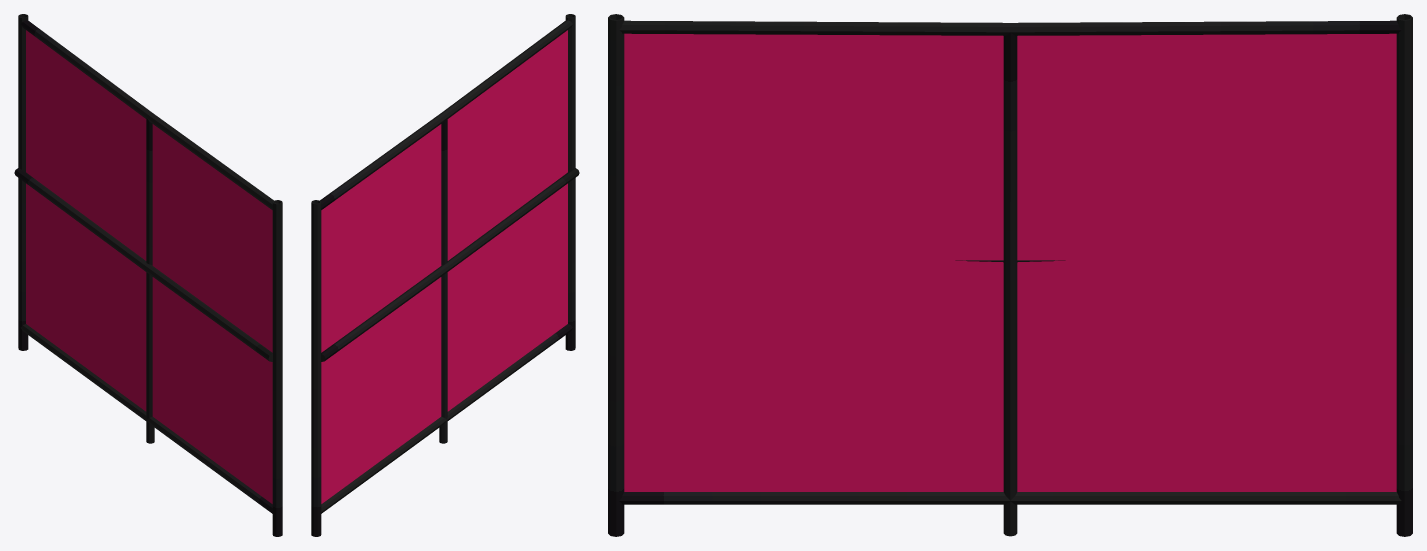
Rendered from Construction_Fence01.fbx.
3 renders of one model, left to right at view 1: azimuth 30°, elevation 25°; view 2: azimuth 150°, elevation 25°; view 3: azimuth 270°, elevation 25°, orthographic. The views are drawn at different scales.
Parts seen in each view (by area): view 1: SM_City_Construnction_Fence_01b.mo; view 2: SM_City_Construnction_Fence_01b.mo; view 3: SM_City_Construnction_Fence_01b.mo.
Part boxes in pixels (bbox=[...]): SM_City_Construnction_Fence_01b.mo: bbox=[14, 14, 282, 536]; SM_City_Construnction_Fence_01b.mo: bbox=[311, 14, 579, 536]; SM_City_Construnction_Fence_01b.mo: bbox=[608, 14, 1412, 536].
Size of the model in its own units: 9.13 by 213 by 300.
